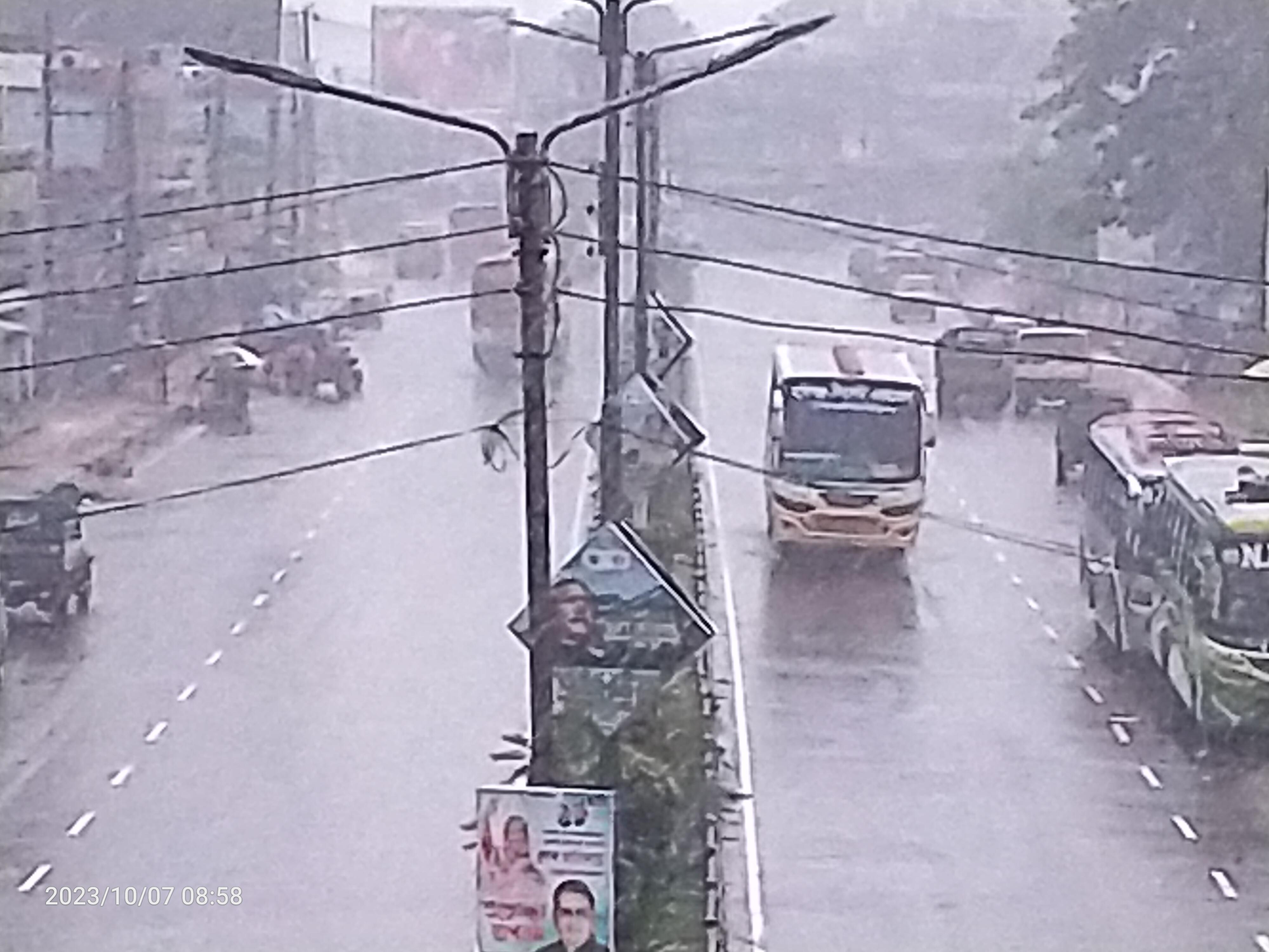Bus: (743, 332, 938, 594), (1132, 430, 1269, 758), (1073, 408, 1207, 678), (456, 229, 583, 429)
Truck: (0, 467, 97, 645)
